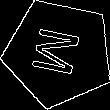M_E: (29, 25, 89, 81)
